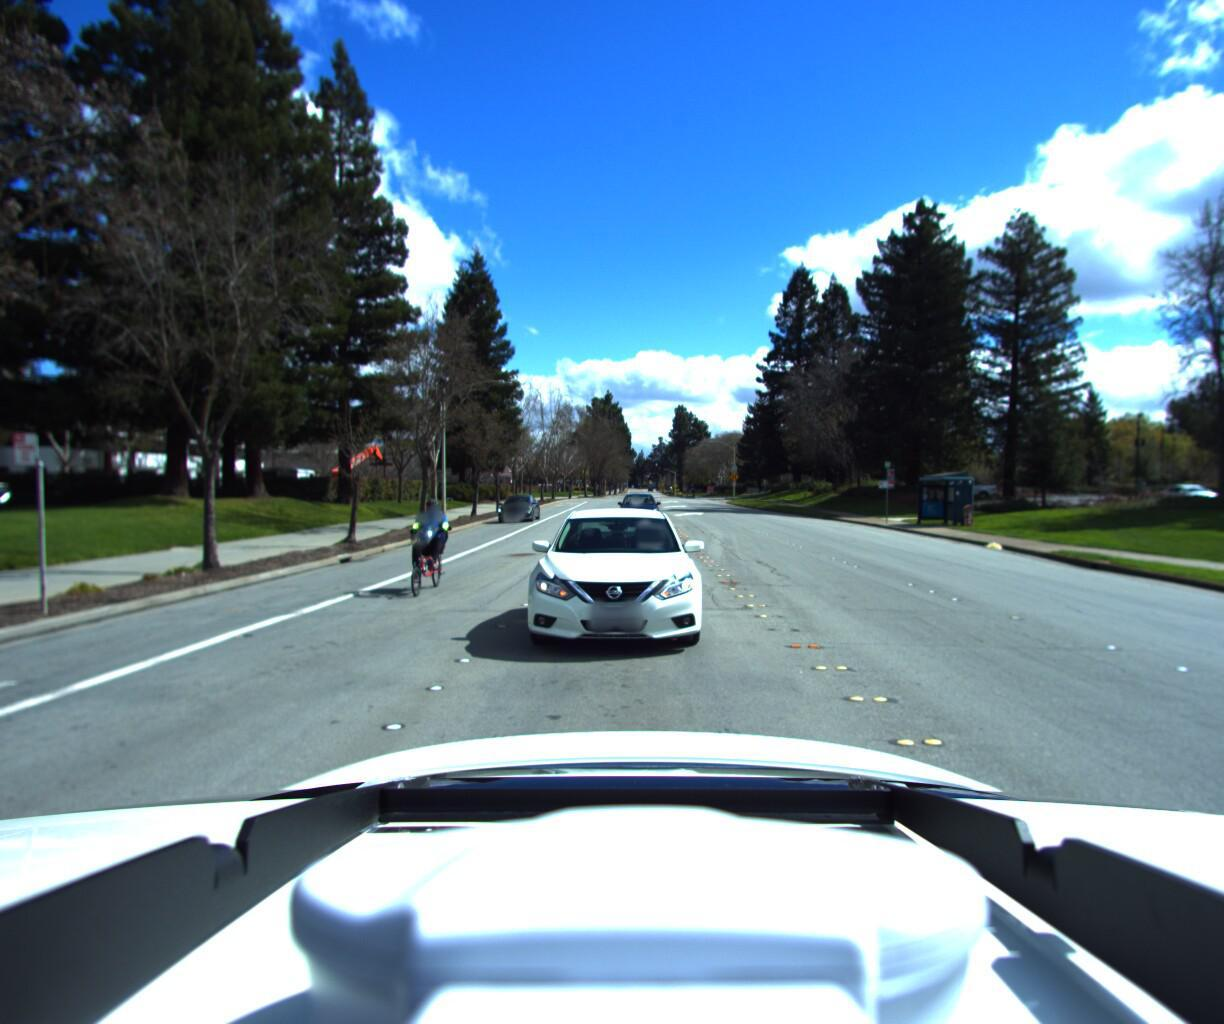bicycle: (387, 499, 456, 604)
car: (521, 503, 703, 666)
